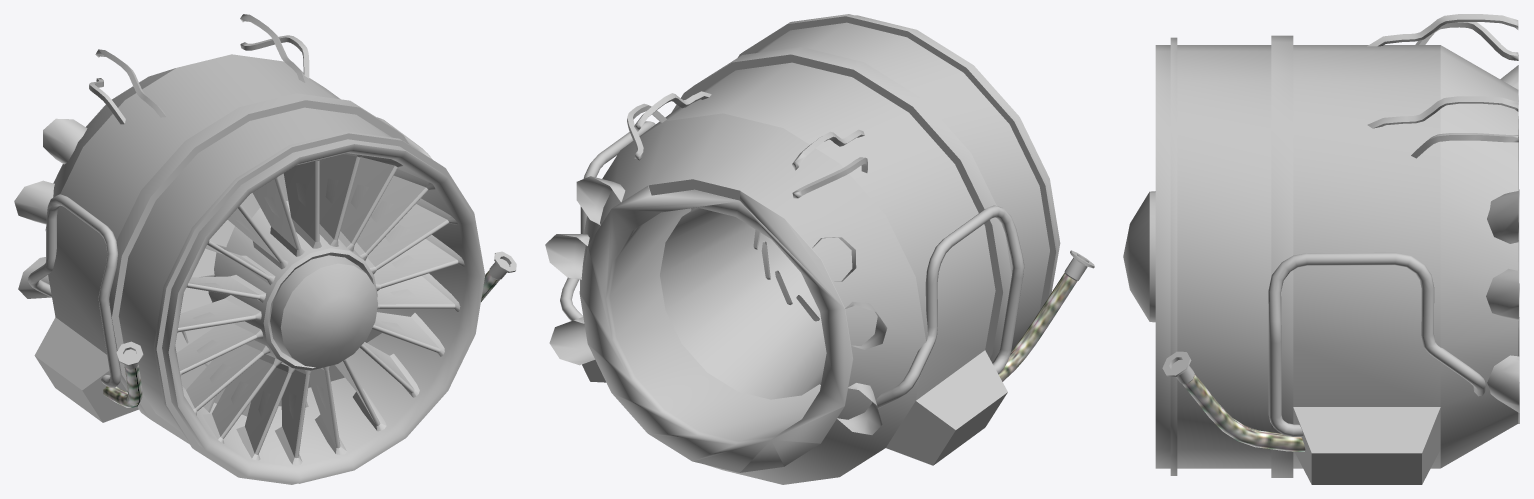
Rendered from Engine_left_2.fbx.
3 renders of one model, left to right at view 1: azimuth 30°, elevation 25°; view 2: azimuth 150°, elevation 25°; view 3: azimuth 270°, elevation 25°, orthographic. The views are drawn at different scales.
Parts seen in each view (by area): view 1: Pipes_rear; view 2: Pipes_rear; view 3: Pipes_rear.
Part boxes in pixels (x1,y1,x2,y2): Pipes_rear: (14, 14, 516, 484); Pipes_rear: (545, 14, 1094, 484); Pipes_rear: (1123, 14, 1519, 484).
Size of the model in its own units: 126 by 104 by 93.27.
